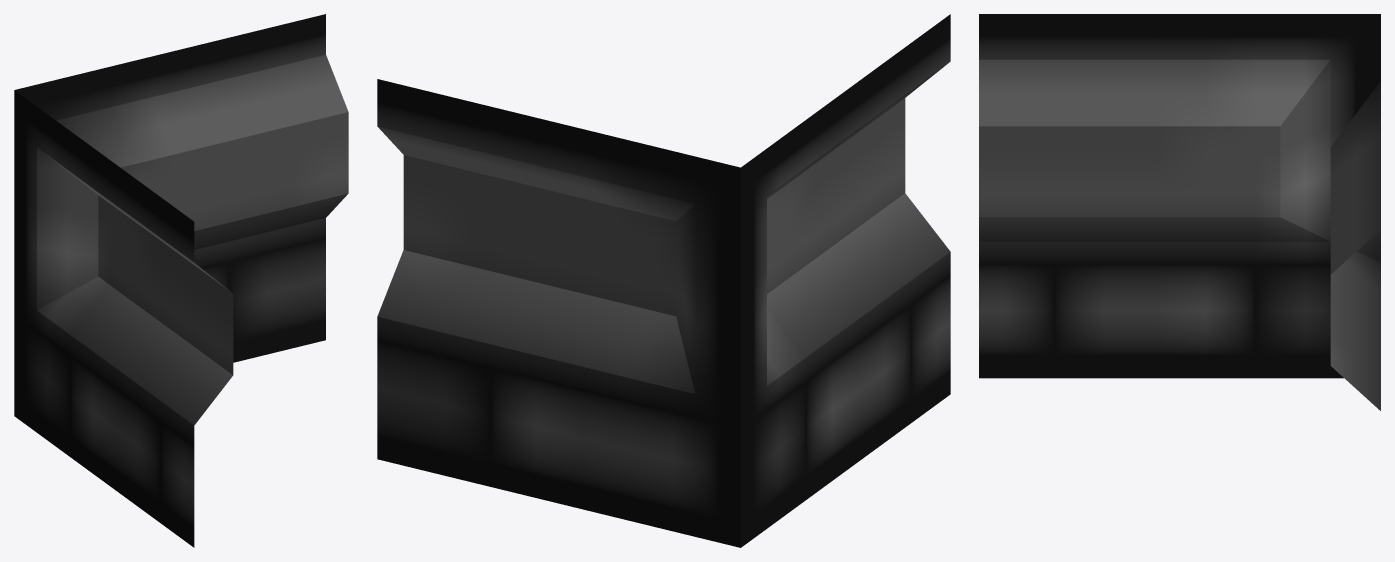
The model's file is wall_corner_top.obj.
3 views of the same model, side by side, from view 1: azimuth 30°, elevation 25°; view 2: azimuth 150°, elevation 25°; view 3: azimuth 270°, elevation 25° (orthographic). The views are drawn at different scales.
Parts seen in each view (by area): view 1: Default; view 2: Default; view 3: Default.
Part boxes in pixels (x1,y1,x2,y2): Default: [14, 14, 348, 547]; Default: [377, 14, 950, 547]; Default: [979, 14, 1380, 410].
Size of the model in its own units: 1 by 1 by 1.
